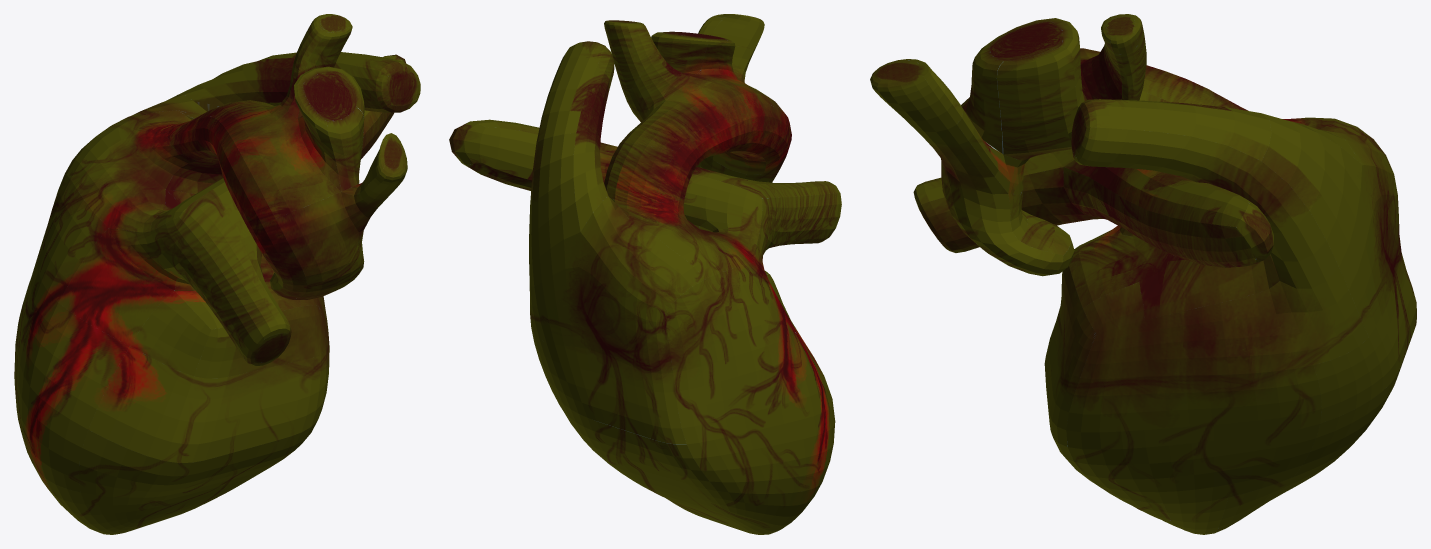
The model's file is heart-stage_3.glb.
3 views of the same model, side by side, from view 1: azimuth 30°, elevation 25°; view 2: azimuth 150°, elevation 25°; view 3: azimuth 270°, elevation 25° (orthographic). The views are drawn at different scales.
Visible parts, largest first — view 1: HeartStage3; view 2: HeartStage3; view 3: HeartStage3.
Boxes of the visible parts, x1=… form: HeartStage3: x1=14, y1=14, x2=420, y2=534; HeartStage3: x1=449, y1=14, x2=841, y2=534; HeartStage3: x1=870, y1=14, x2=1416, y2=534.
Bounding box in the file's own units: 2.92 × 3.54 × 2.98.
1 material, 1 textured.
